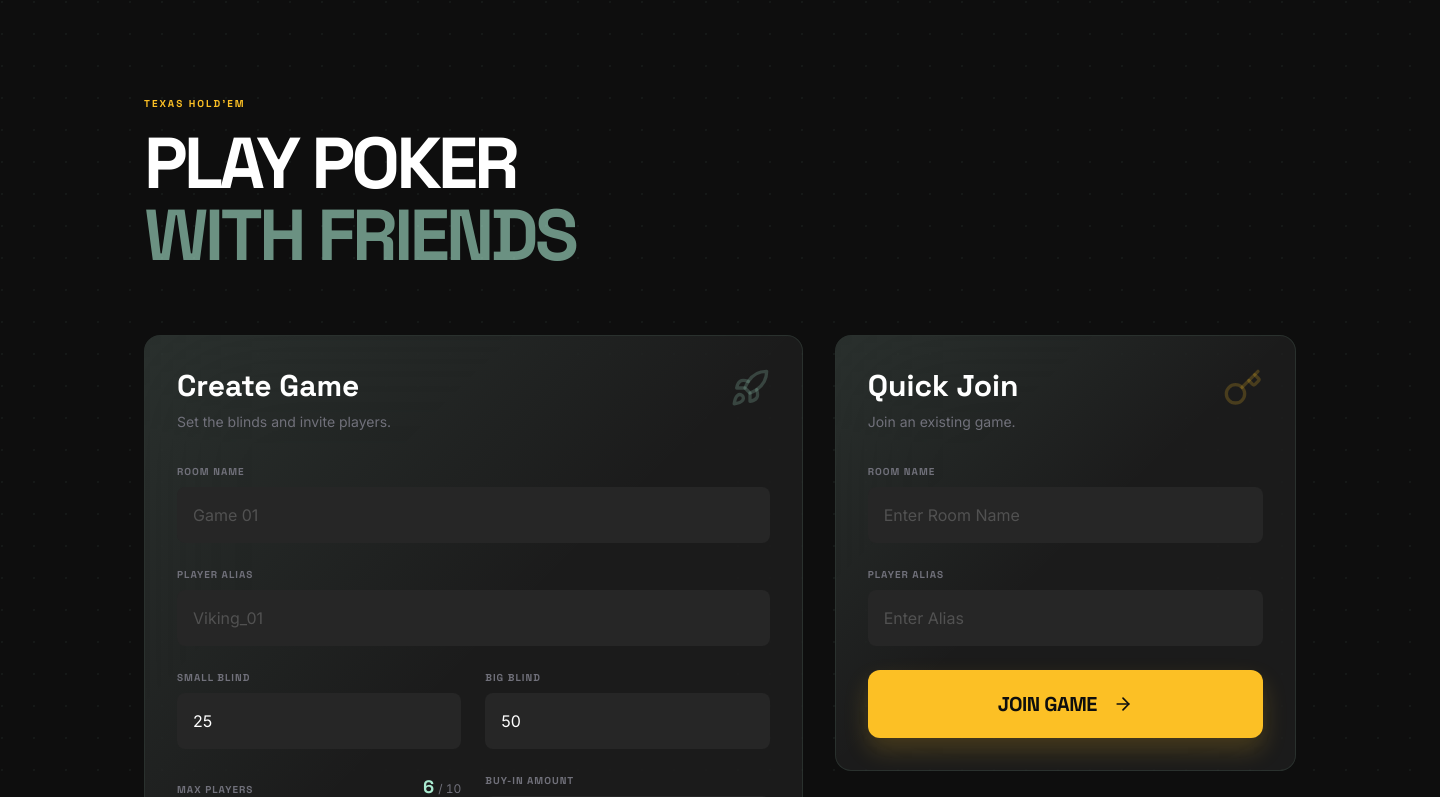
it: Lobby Integration › keeps Create button text as CREATE GAME (disabled) while joinRoom is pending
The width and height of the screenshot is (1440, 797).
In the field labelled "Room Name" below "Join an existing game.": x=1065, y=515 [868,487,1263,543], type "POKER123"
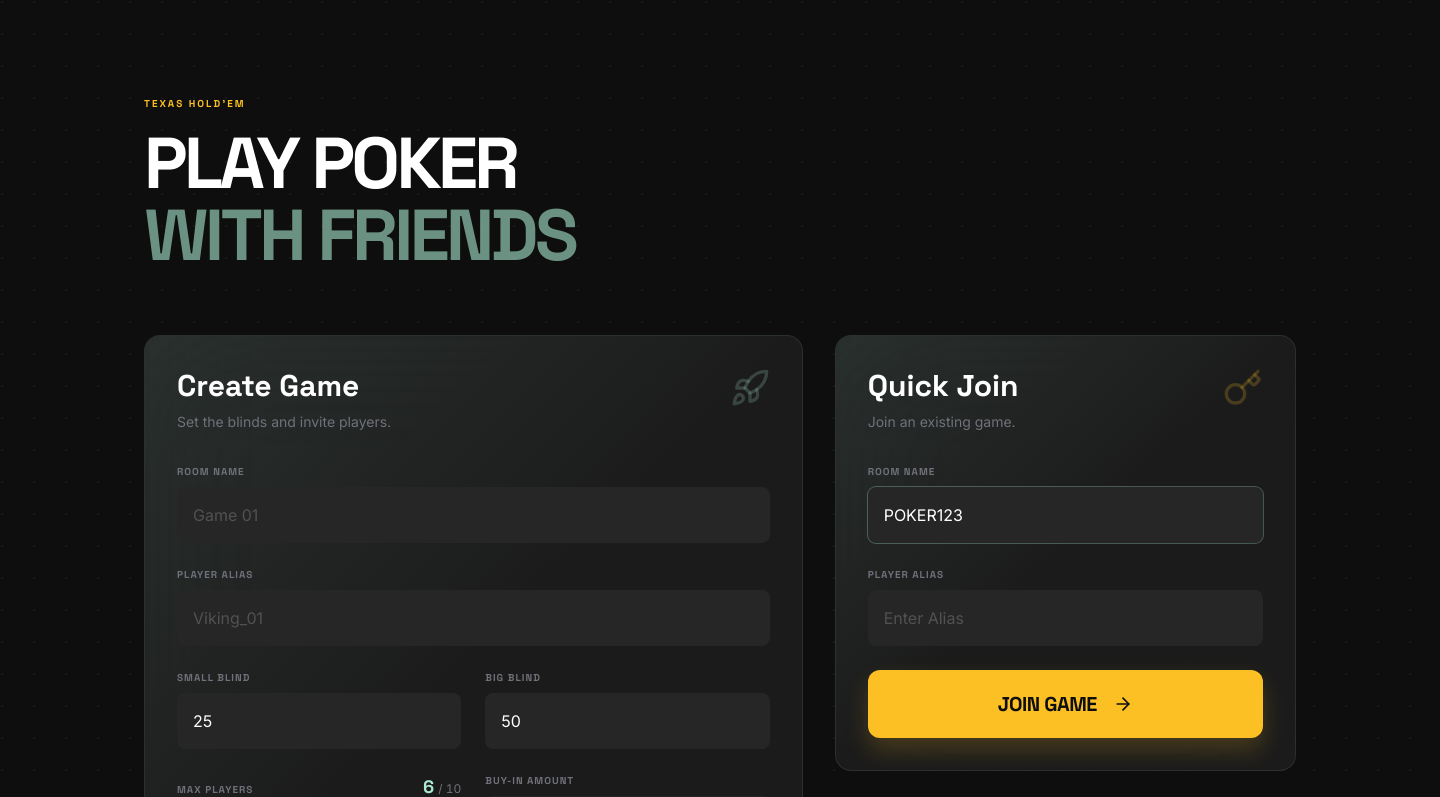
In the field labelled "Player Alias" below "Join an existing game.": x=1065, y=618 [868,590,1263,646], type "Joiner"
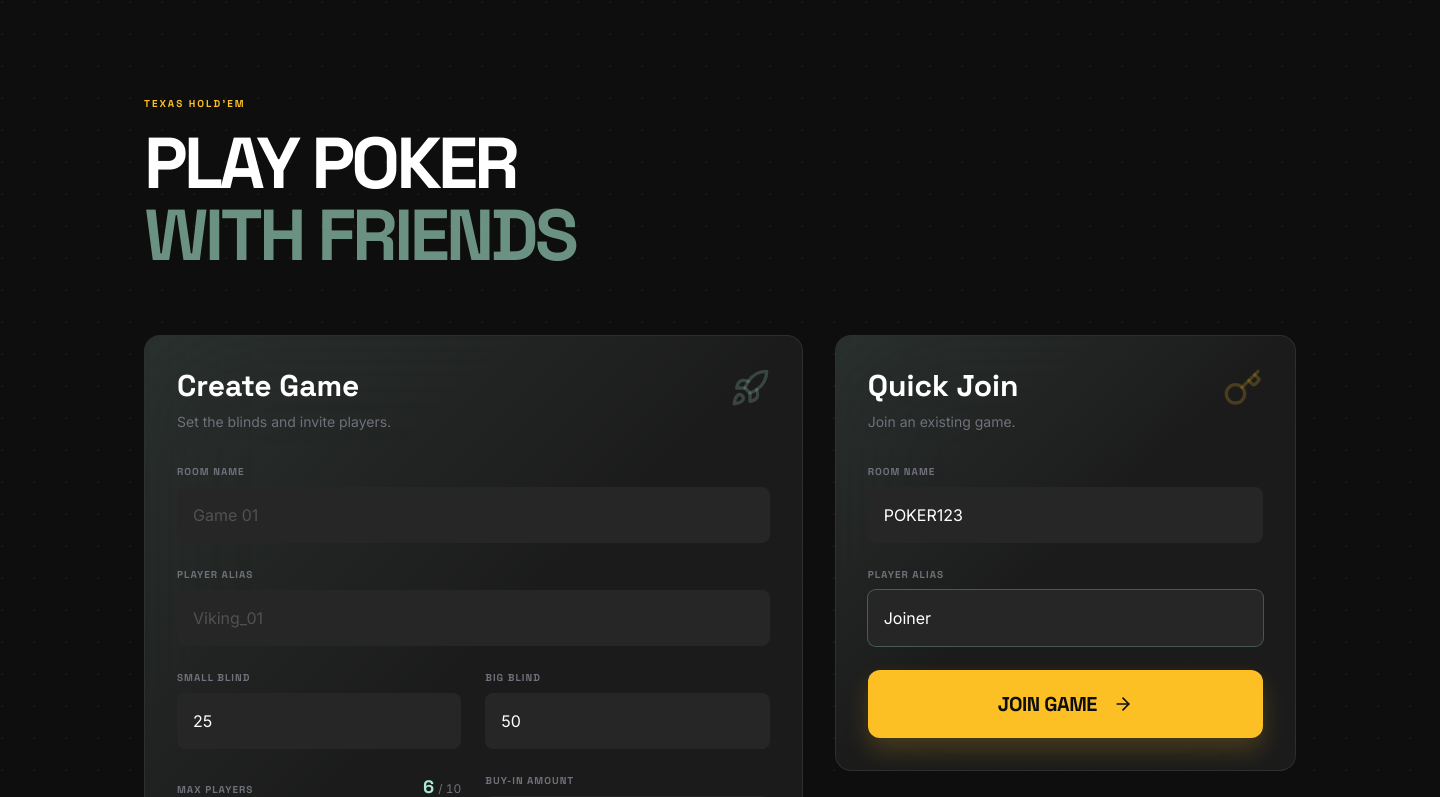
Click the button "JOIN GAME": x=1065, y=704 [868,670,1263,738]
(page scrolled)
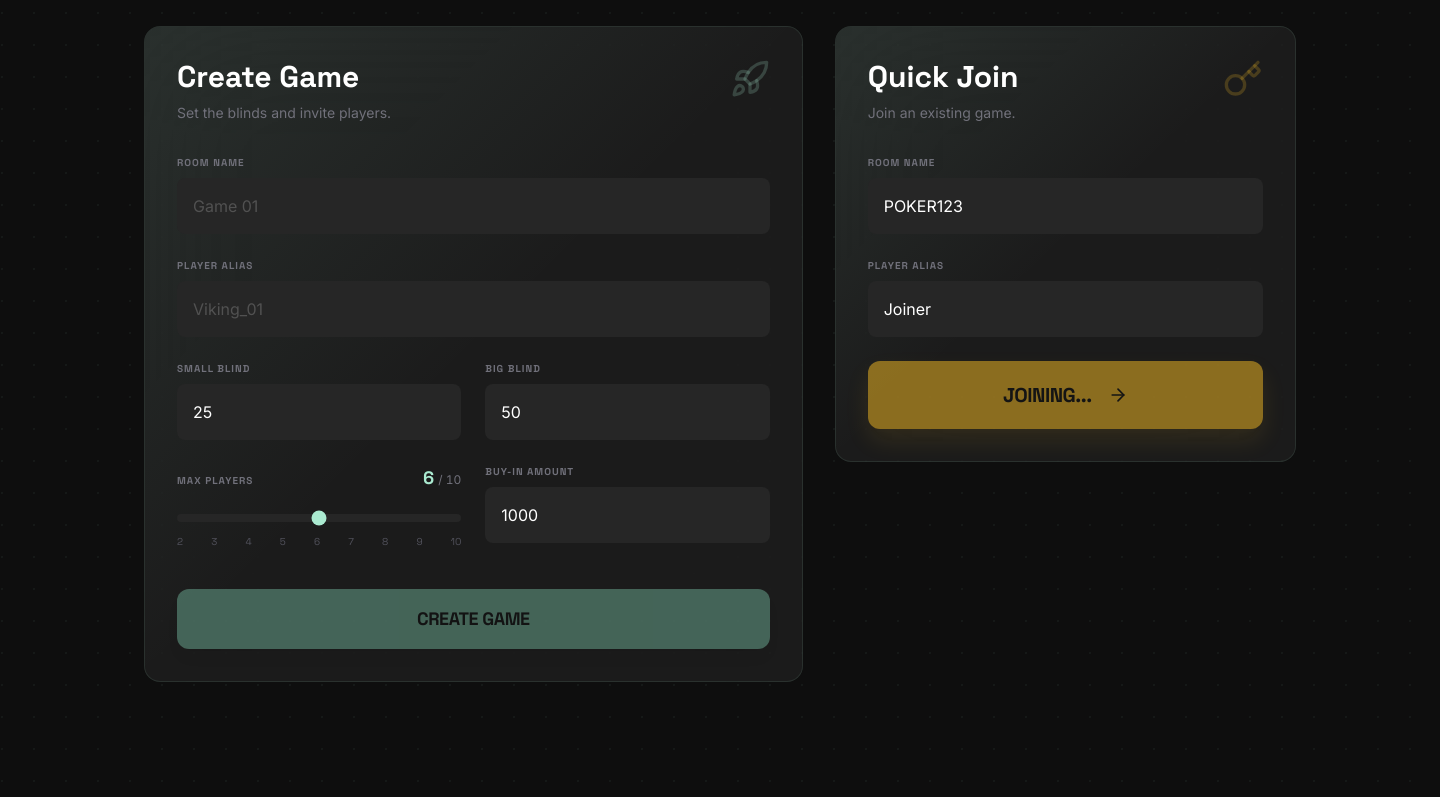
Expected: the button "JOINING..." is disabled, [868,361,1263,429]
Expected: the button "CREATE GAME" is disabled, [177,589,770,649]
